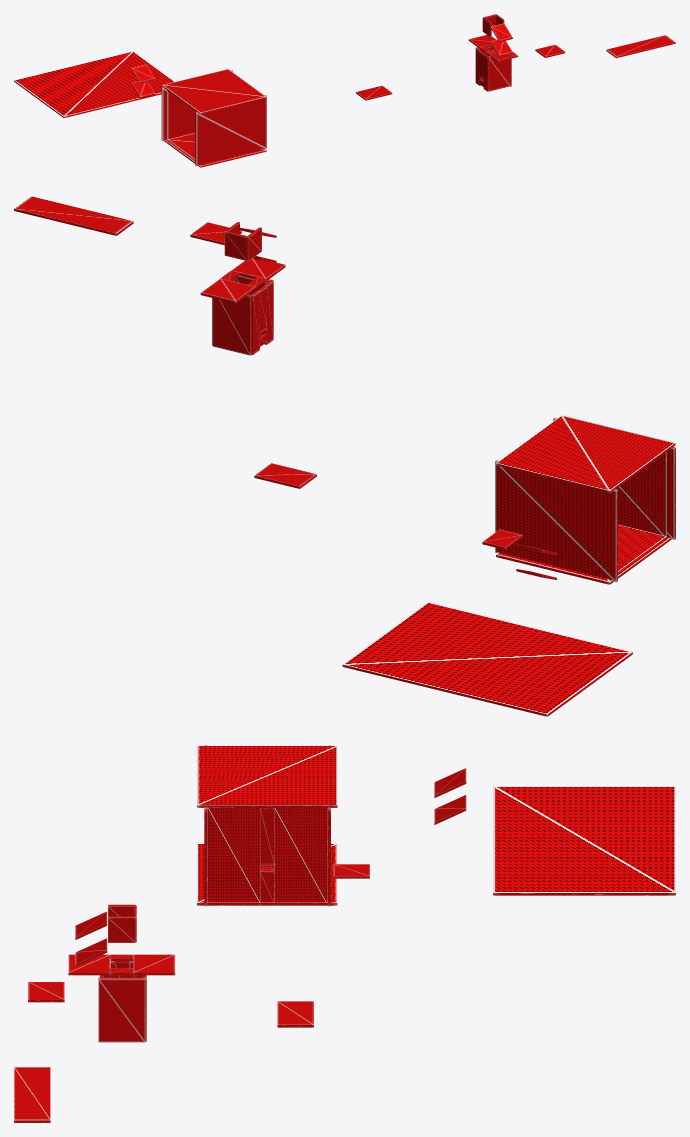
Rendered from Killplanes.obj.
The picture shows the model from 3 angles, top to bottom: view 1: azimuth 30°, elevation 25°; view 2: azimuth 150°, elevation 25°; view 3: azimuth 270°, elevation 25°; orthographic projection. The views are drawn at different scales.
Bounding box in the file's own units: 10866 × 2104 × 7054.
Materials: 1 (1 with a texture image).
